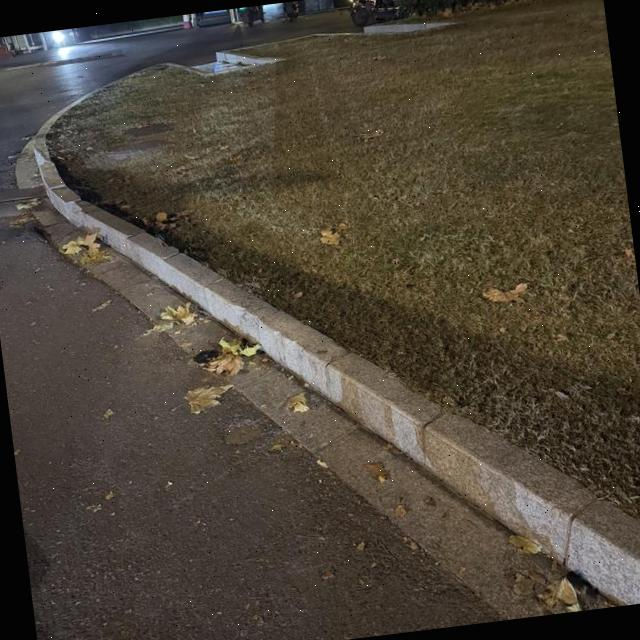curb: (40, 167, 640, 604), (30, 92, 93, 203), (74, 22, 182, 43)
